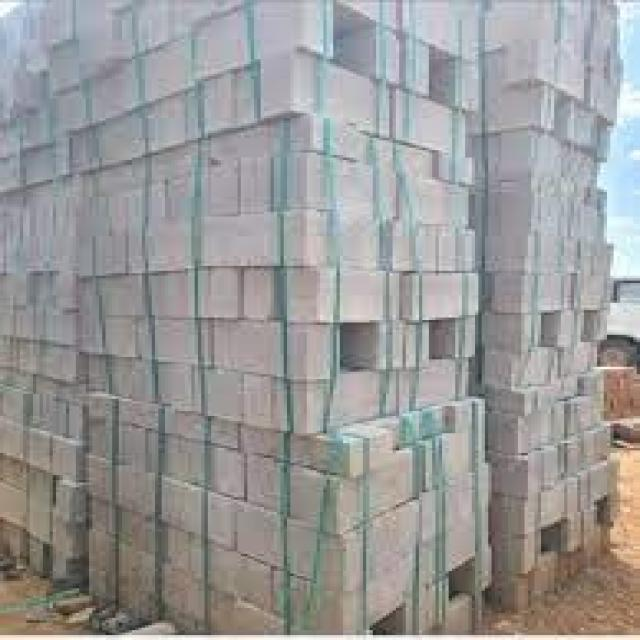bricks: (0, 0, 614, 628)
